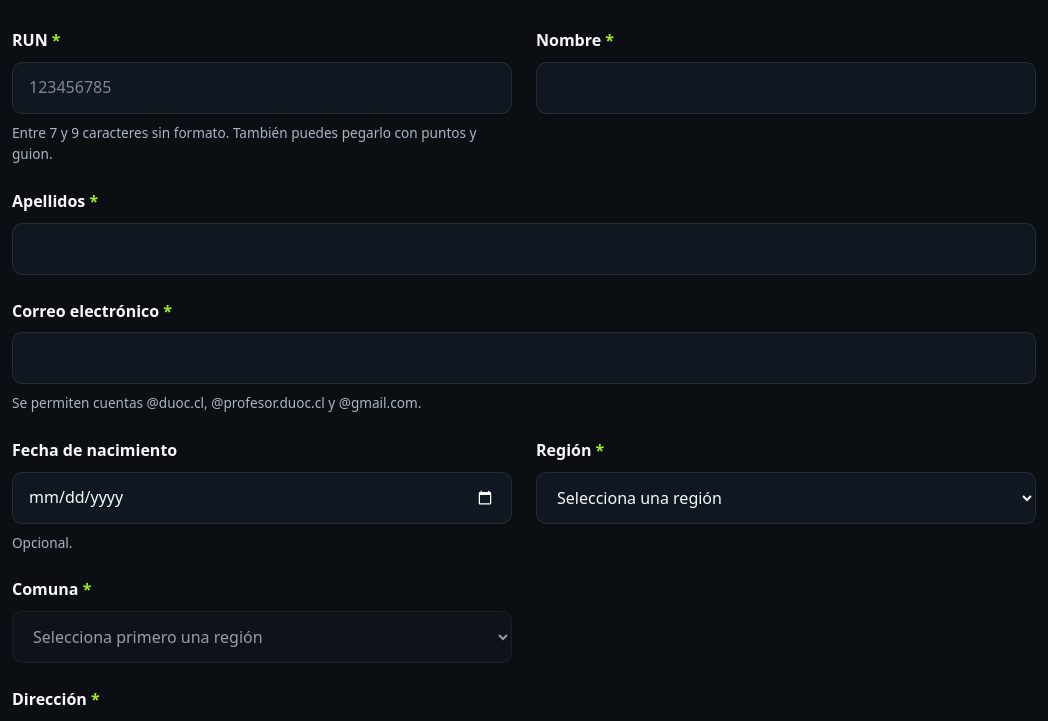
Scenario: RegistrationForm › habilita comunas de la región y reinicia la selección al cambiarla
expect the dropdown labelled "Comuna" is disabled: met, box [12,611,512,663]
Select "Región Metropolitana de Santiago" in the dropdown labelled "Región" at coordinates (786, 498), box [536,472,1036,524]
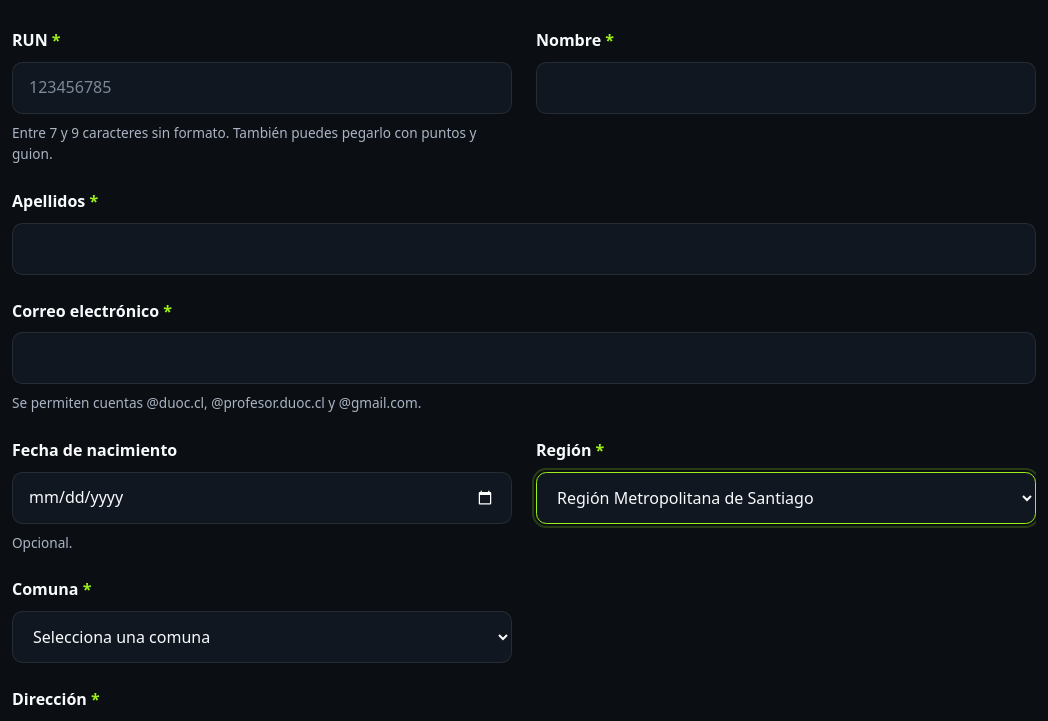
Select "Santiago" in the dropdown labelled "Comuna" at coordinates (262, 637), box [12,611,512,663]
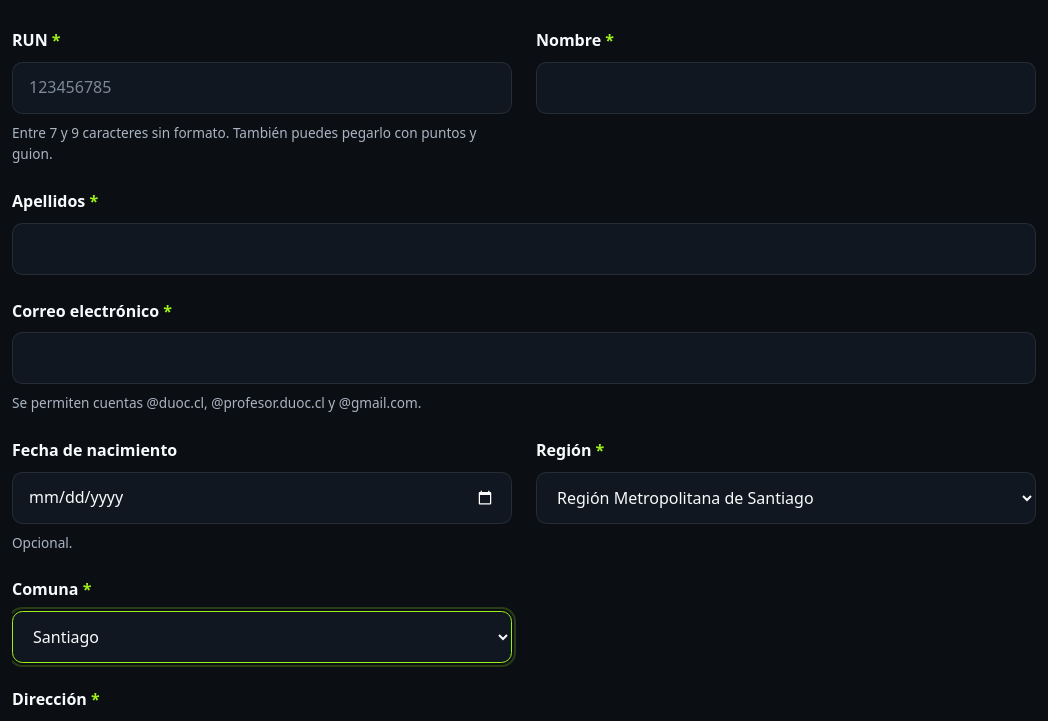
Select "Región de Valparaíso" in the dropdown labelled "Región" at coordinates (786, 498), box [536,472,1036,524]
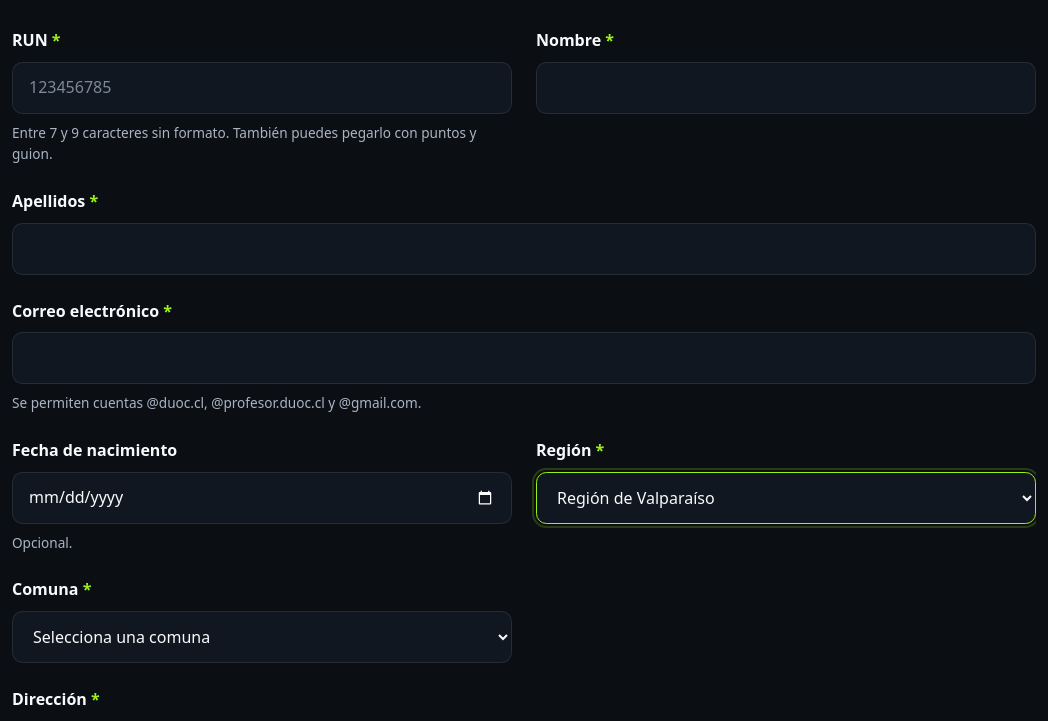
expect the option "Santiago" is not shown: met
Select "Selecciona una región" in the dropdown labelled "Región" at coordinates (786, 498), box [536,472,1036,524]
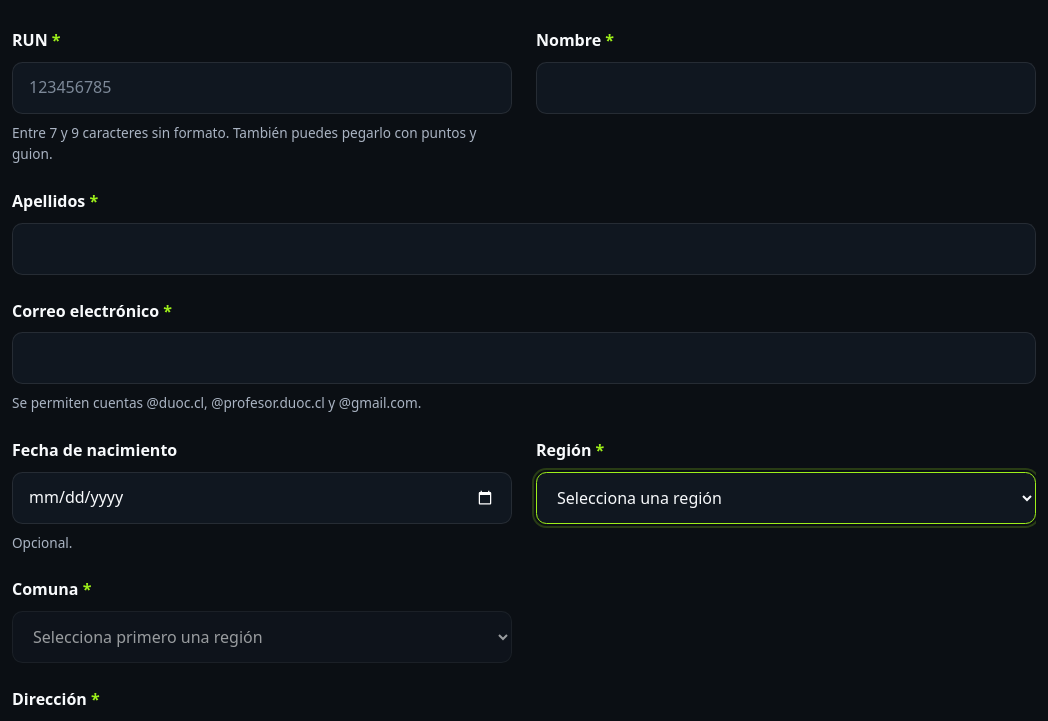
expect the dropdown labelled "Comuna" is disabled: met, box [12,611,512,663]
